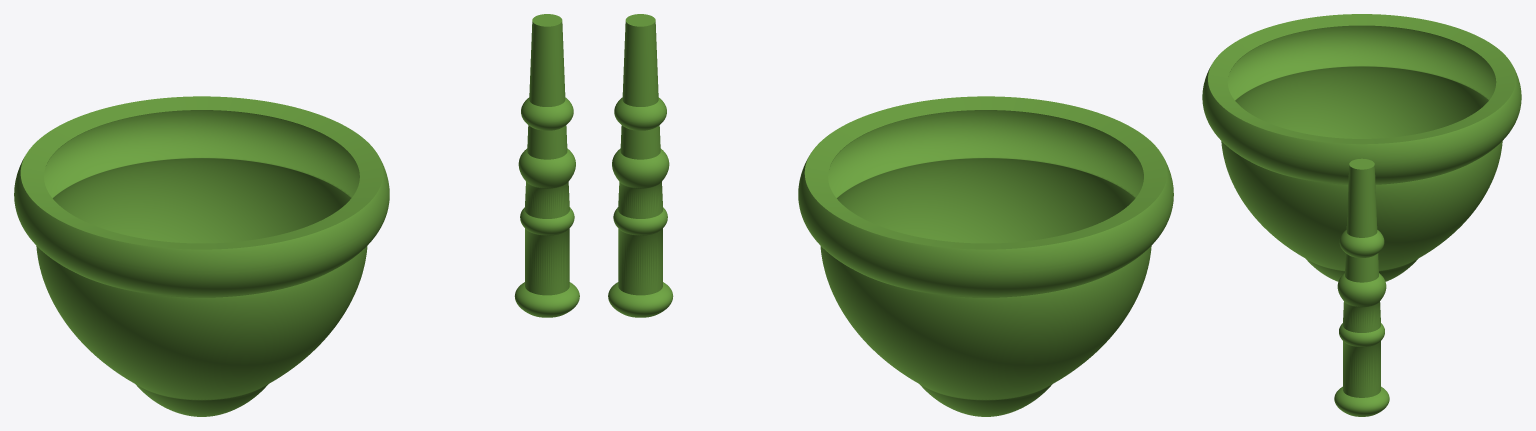
The model's file is atm-lab-hello-disc-3D (2).gltf.
The picture shows the model from 3 angles, left to right: view 1: azimuth 30°, elevation 25°; view 2: azimuth 150°, elevation 25°; view 3: azimuth 270°, elevation 25°; orthographic projection. The views are drawn at different scales.
Bounding box in the file's own units: 0.4883 × 0.2677 × 0.2962.
